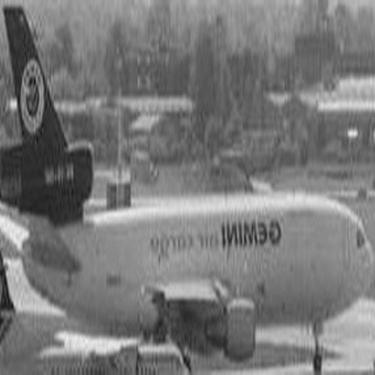airplane: (5, 9, 365, 369), (24, 318, 159, 369)
